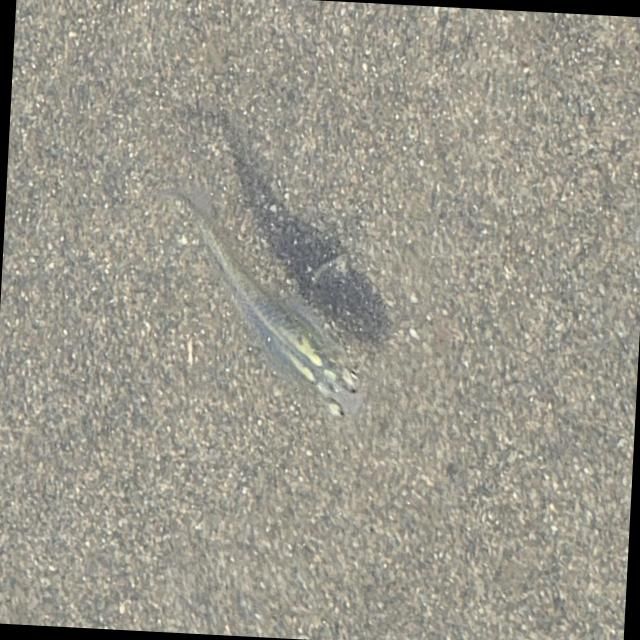Sivrisinek Baligi: (144, 172, 376, 423)
